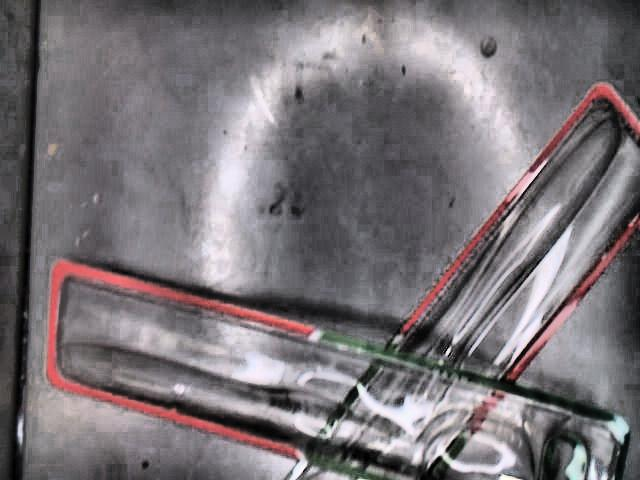Plastic: (42, 78, 640, 480)
